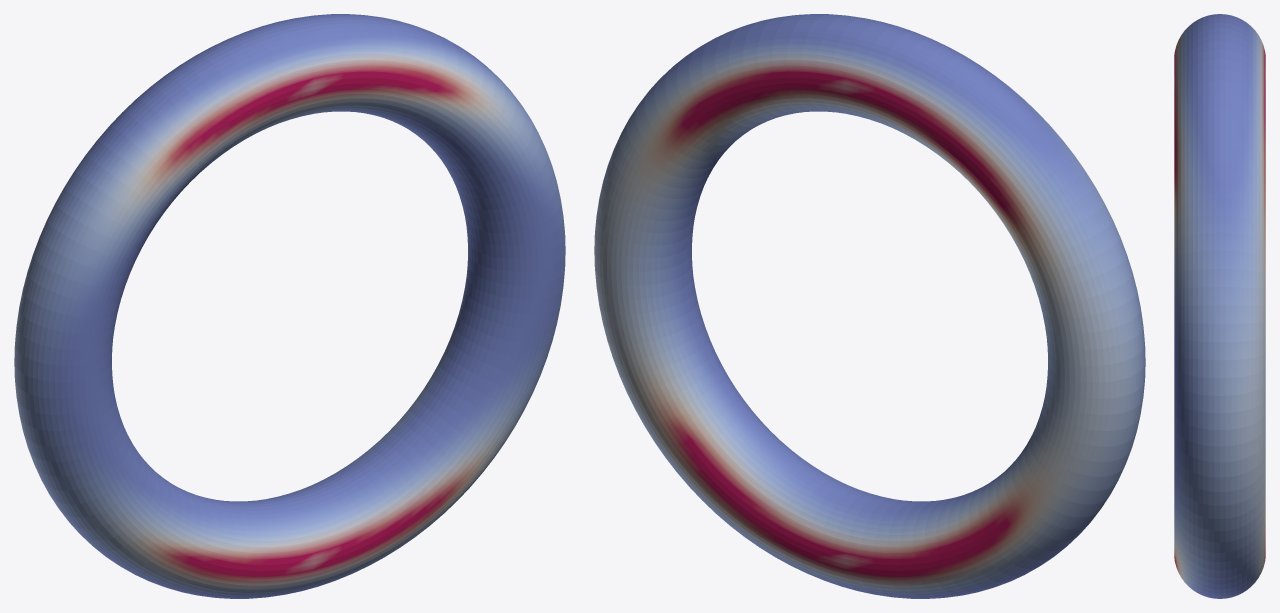
3 renders of one model, left to right at view 1: azimuth 30°, elevation 25°; view 2: azimuth 150°, elevation 25°; view 3: azimuth 270°, elevation 25°, orthographic. The views are drawn at different scales.
Parts seen in each view (by area): view 1: world; view 2: world; view 3: world.
Boxes of the visible parts, bbox=[...] form: world: bbox=[14, 14, 565, 598]; world: bbox=[594, 14, 1145, 598]; world: bbox=[1174, 14, 1265, 598].
Bounding box in the file's own units: 22.93 × 22.93 × 3.59.
